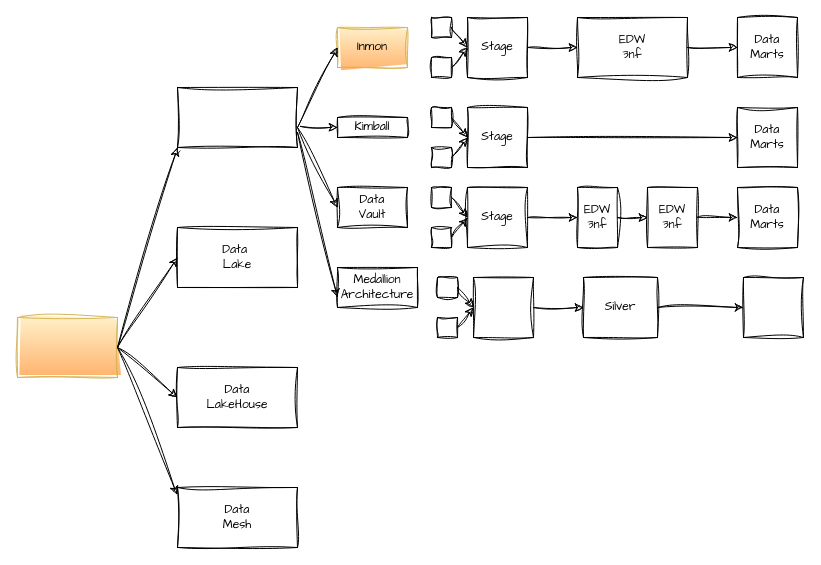
This 821x565 diagram has some shape labels left out. The shapes that lost their labels are listed below. From the top down, each one's box as (x1, y1, x2, y2) in pixels, then its label:
(176, 86, 298, 148): Data Warehouse
(472, 276, 534, 338): Bronze
(742, 276, 804, 338): Gold
(16, 316, 118, 378): Data Architecure
